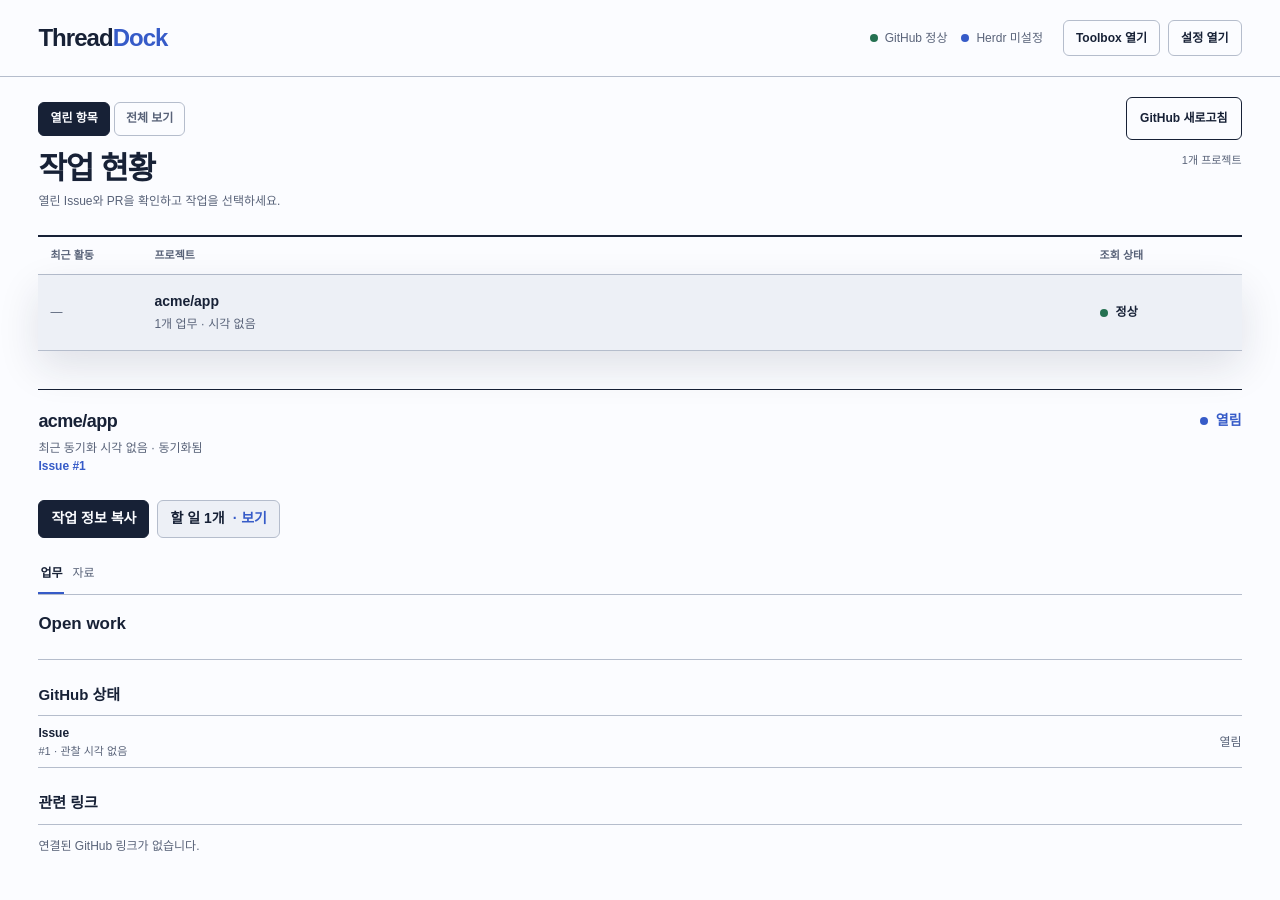
Test: work history scope › opens the project Todo shortcut with the matching filter
Click the button with aria-label "할 일 보기": (219, 519) [158, 500, 280, 538]
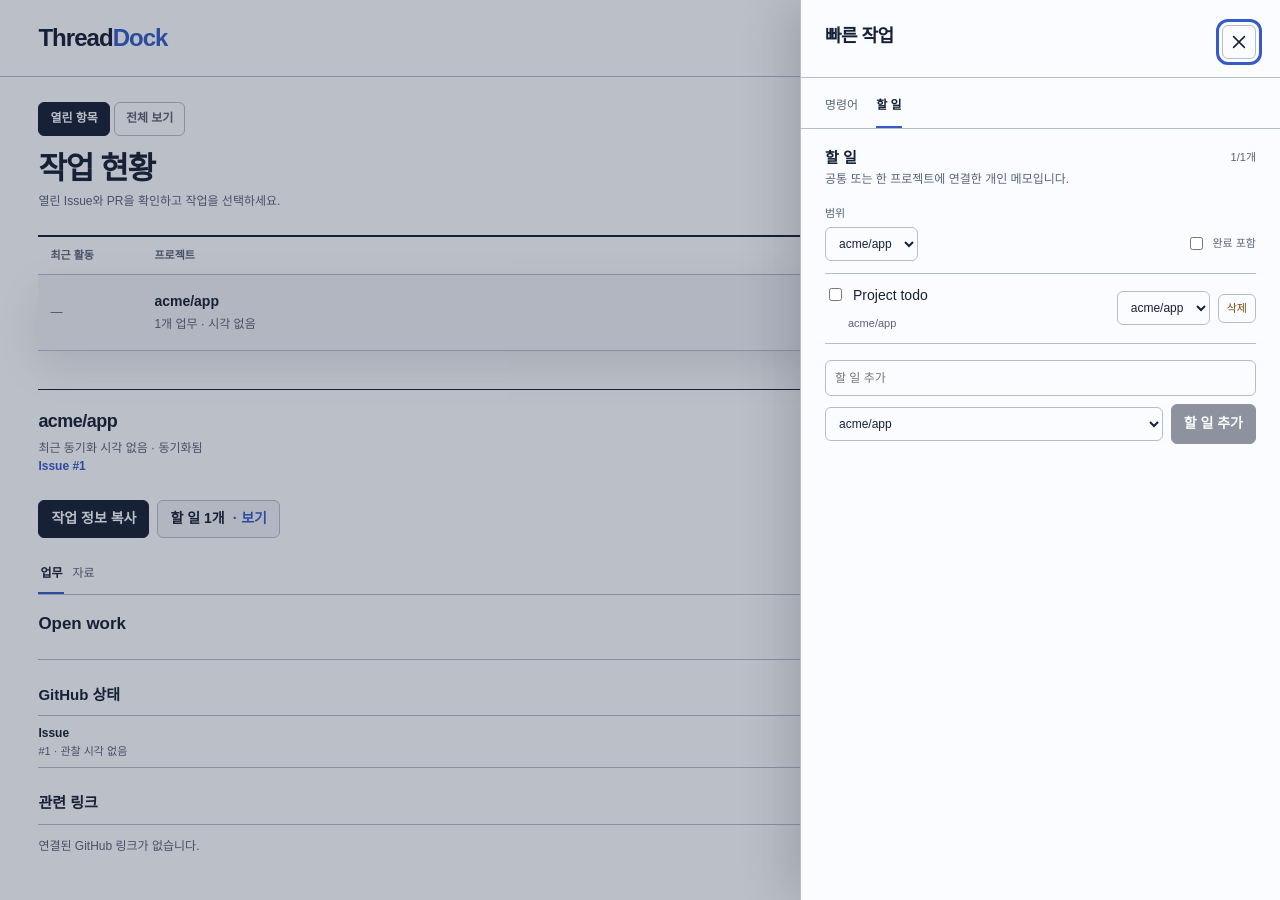
Result: the dropdown named "할 일 범위" shows "acme/app" at [825, 227, 918, 261]
